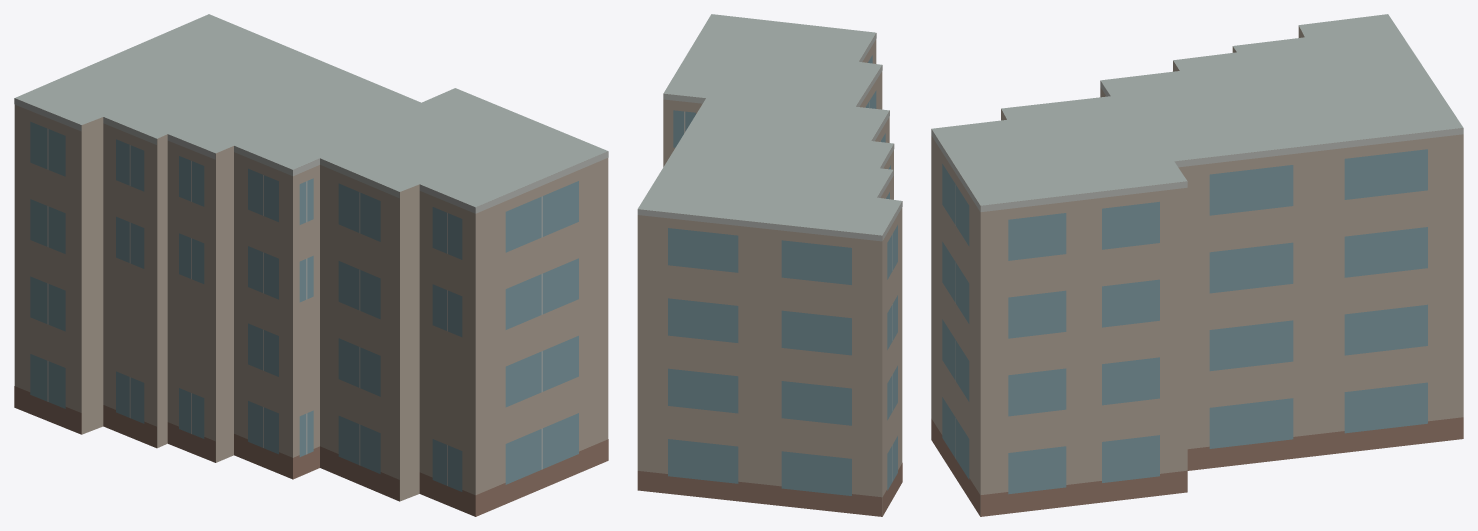
Rendered from survey-upis-32570172.glb.
The picture shows the model from 3 angles, left to right: view 1: azimuth 30°, elevation 25°; view 2: azimuth 150°, elevation 25°; view 3: azimuth 270°, elevation 25°; orthographic projection. The views are drawn at different scales.
Visible parts, largest first — view 1: survey-upis-32570172.tmp; view 2: survey-upis-32570172.tmp; view 3: survey-upis-32570172.tmp.
Part boxes in pixels (<box>): survey-upis-32570172.tmp: <box>14,14,608,516</box>; survey-upis-32570172.tmp: <box>637,14,902,516</box>; survey-upis-32570172.tmp: <box>931,14,1463,516</box>.
Size of the model in its own units: 15.52 by 11.73 by 18.2.
